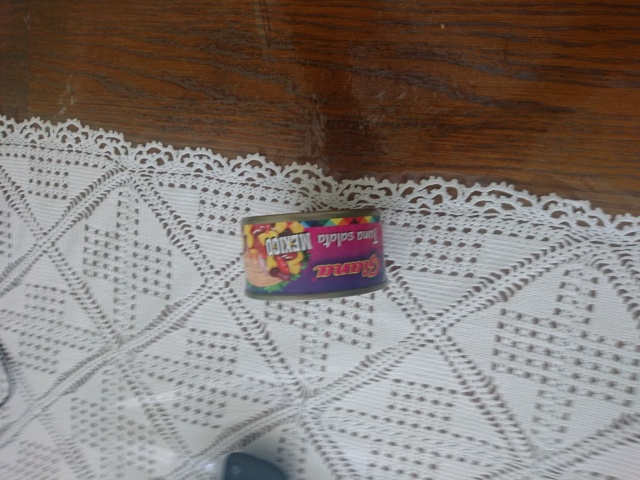Giana Tuna Salad Mexico 185g: (236, 204, 391, 304)
